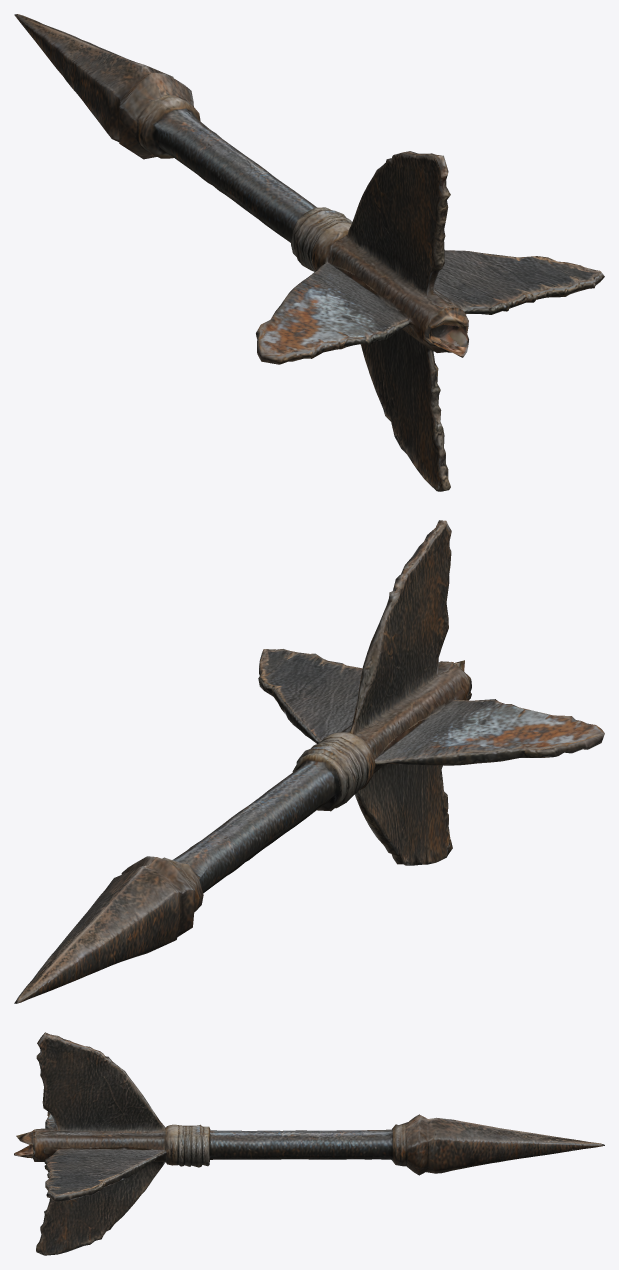
Rendered from Dart.fbx.
The picture shows the model from 3 angles, top to bottom: view 1: azimuth 30°, elevation 25°; view 2: azimuth 150°, elevation 25°; view 3: azimuth 270°, elevation 25°; orthographic projection. The views are drawn at different scales.
Visible parts, largest first — view 1: texture_mapping; view 2: texture_mapping; view 3: texture_mapping.
Boxes of the visible parts, x1=… form: texture_mapping: x1=14, y1=14, x2=604, y2=491; texture_mapping: x1=14, y1=520, x2=604, y2=1003; texture_mapping: x1=14, y1=1032, x2=604, y2=1255.
Bounding box in the file's own units: 0.438 × 0.9958 × 0.4121.
Materials: 1 (1 with a texture image).
